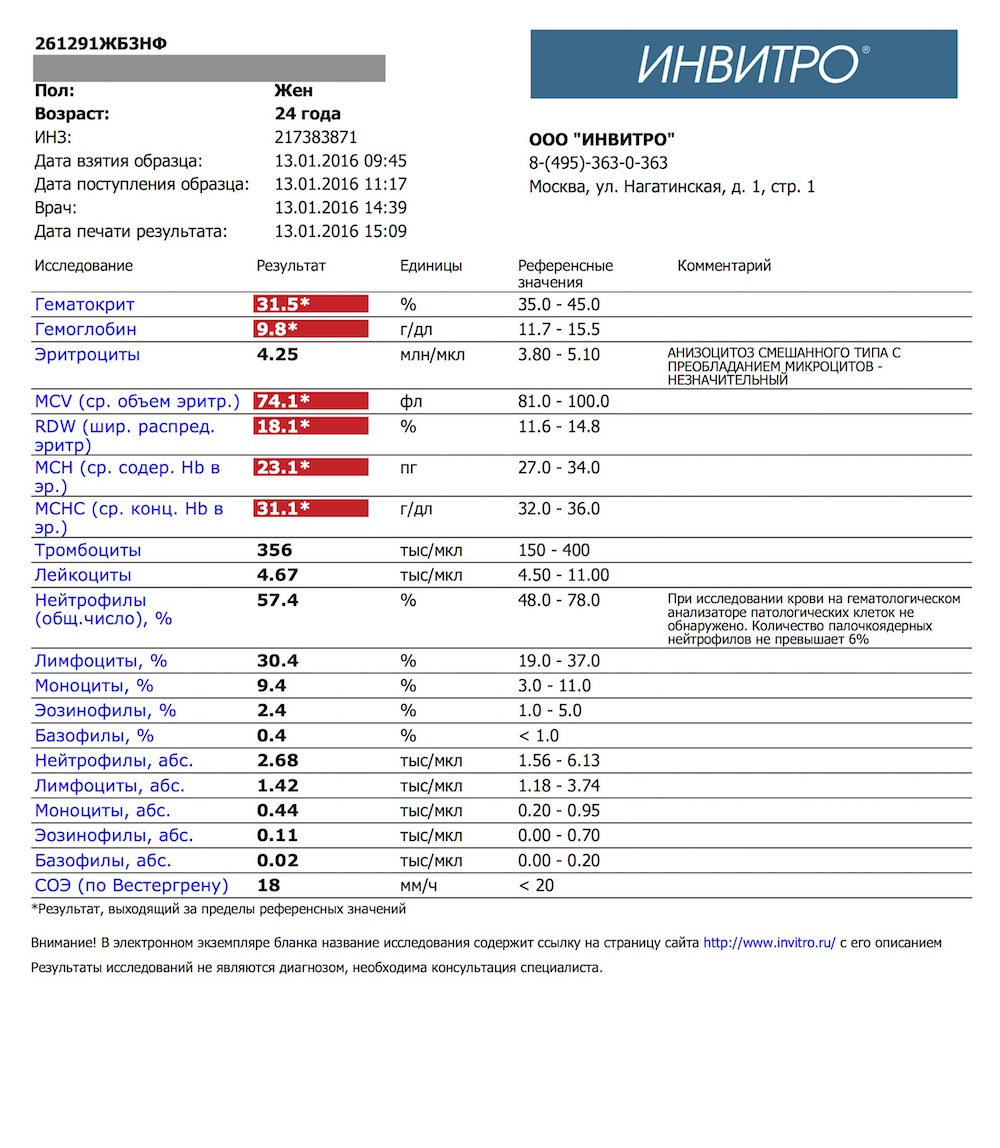column: (666, 258, 961, 897), (34, 258, 239, 897), (517, 258, 614, 897), (255, 258, 327, 897), (399, 258, 465, 897)
